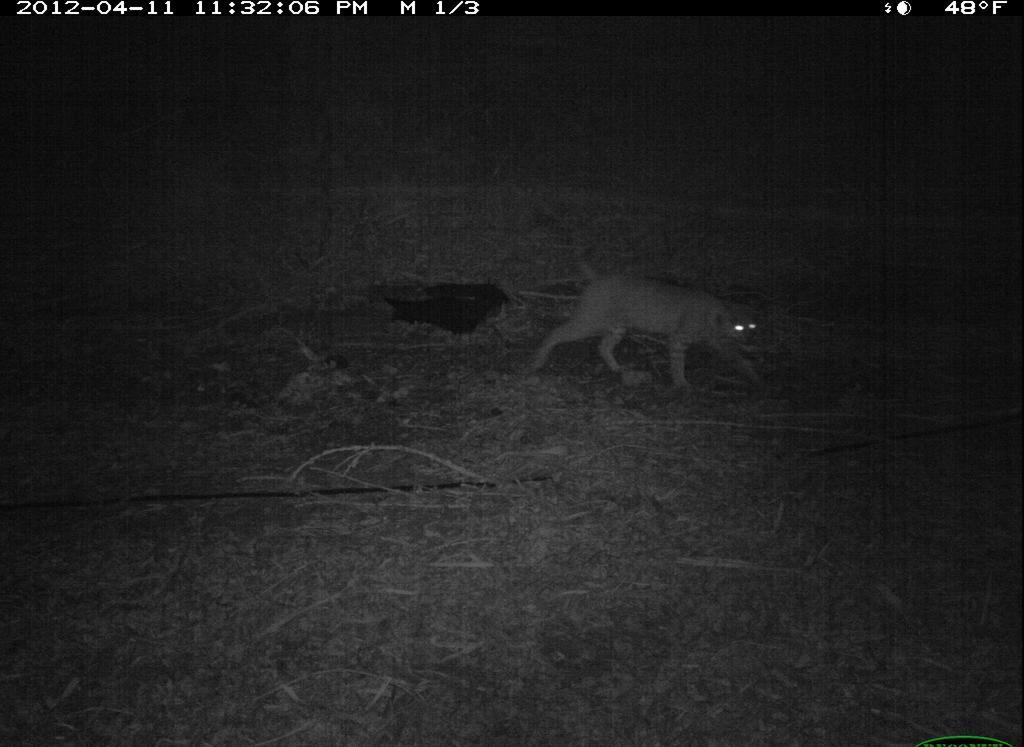bobcat: (512, 243, 779, 410)
